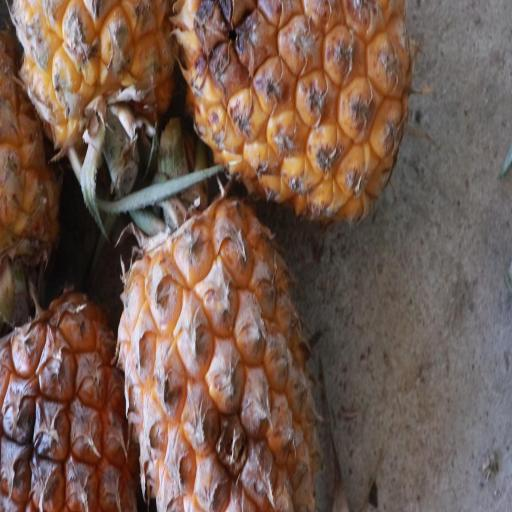Pineapple - v8 v1: (116, 190, 317, 508), (164, 0, 414, 229), (16, 0, 184, 198), (0, 298, 133, 511)
